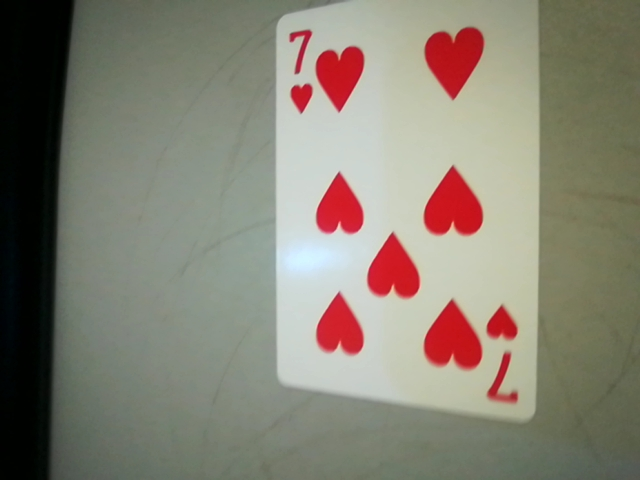hx 7: (481, 302, 530, 412)
